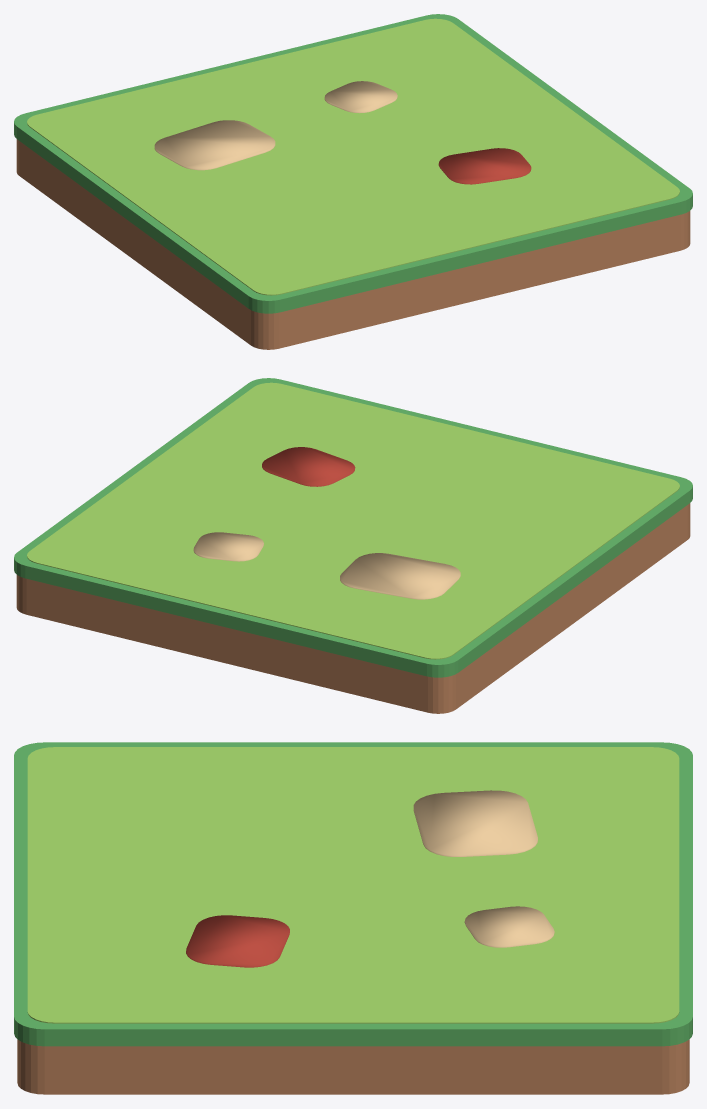
File: courtyard-ground-tile.glb
The picture shows the model from 3 angles, top to bottom: view 1: azimuth 30°, elevation 25°; view 2: azimuth 150°, elevation 25°; view 3: azimuth 270°, elevation 25°; orthographic projection. The views are drawn at different scales.
Visible parts, largest first — view 1: YardGroundTile_GrassTop, YardGroundTile_TerracottaPlinth, YardGroundTile_LeafSkirt, YardGroundTile_SandSteppingStones, YardGroundTile_BrickAccentStone; view 2: YardGroundTile_GrassTop, YardGroundTile_TerracottaPlinth, YardGroundTile_LeafSkirt, YardGroundTile_SandSteppingStones, YardGroundTile_BrickAccentStone; view 3: YardGroundTile_GrassTop, YardGroundTile_TerracottaPlinth, YardGroundTile_LeafSkirt, YardGroundTile_SandSteppingStones, YardGroundTile_BrickAccentStone.
Part boxes in pixels (left/top/right/bottom): YardGroundTile_GrassTop: left=27, top=18, right=679, bottom=295; YardGroundTile_TerracottaPlinth: left=16, top=139, right=690, bottom=349; YardGroundTile_LeafSkirt: left=14, top=14, right=692, bottom=313; YardGroundTile_SandSteppingStones: left=154, top=81, right=397, bottom=170; YardGroundTile_BrickAccentStone: left=438, top=148, right=531, bottom=184; YardGroundTile_GrassTop: left=27, top=382, right=679, bottom=659; YardGroundTile_TerracottaPlinth: left=16, top=503, right=690, bottom=713; YardGroundTile_LeafSkirt: left=14, top=378, right=692, bottom=677; YardGroundTile_SandSteppingStones: left=193, top=532, right=460, bottom=599; YardGroundTile_BrickAccentStone: left=262, top=447, right=355, bottom=486; YardGroundTile_GrassTop: left=27, top=747, right=679, bottom=1023; YardGroundTile_TerracottaPlinth: left=17, top=1039, right=689, bottom=1094; YardGroundTile_LeafSkirt: left=14, top=742, right=692, bottom=1046; YardGroundTile_SandSteppingStones: left=413, top=790, right=554, bottom=947; YardGroundTile_BrickAccentStone: left=186, top=915, right=289, bottom=967.
Size of the model in its own units: 2 by 0.225 by 2.
